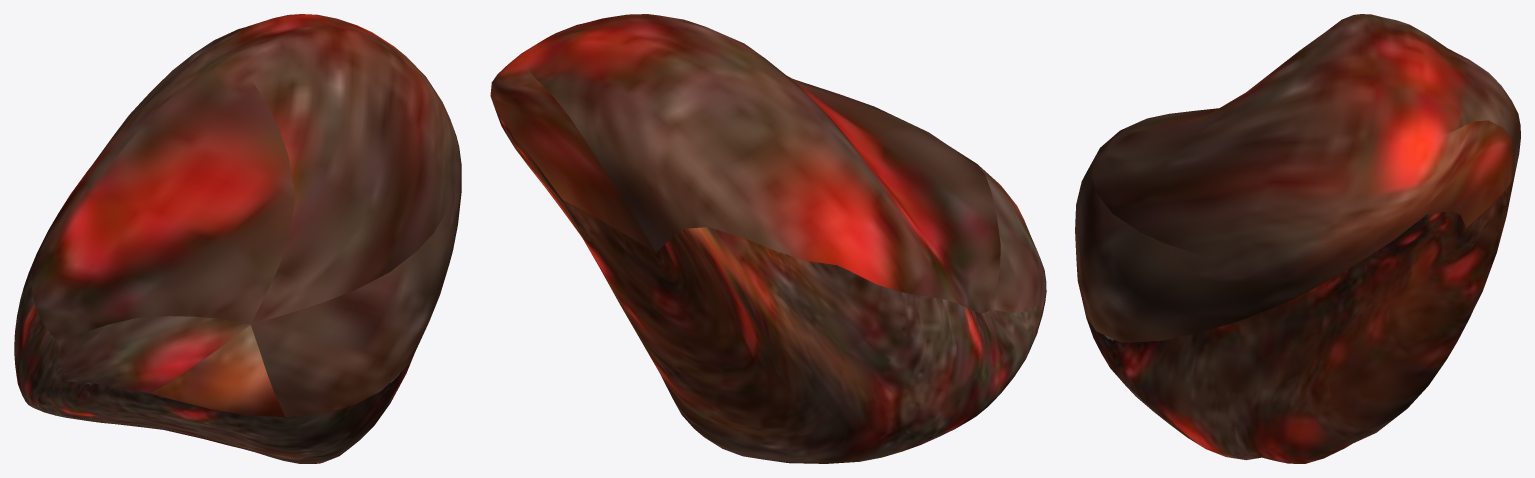
The model's file is redrock.fbx.
3 renders of one model, left to right at view 1: azimuth 30°, elevation 25°; view 2: azimuth 150°, elevation 25°; view 3: azimuth 270°, elevation 25°, orthographic. The views are drawn at different scales.
Visible parts, largest first — view 1: redrock; view 2: redrock; view 3: redrock.
Boxes of the visible parts, left/top/right/bottom form: redrock: left=14, top=14, right=461, bottom=463; redrock: left=490, top=14, right=1046, bottom=463; redrock: left=1075, top=14, right=1520, bottom=463.
Bounding box in the file's own units: 9076 × 7617 × 7018.
